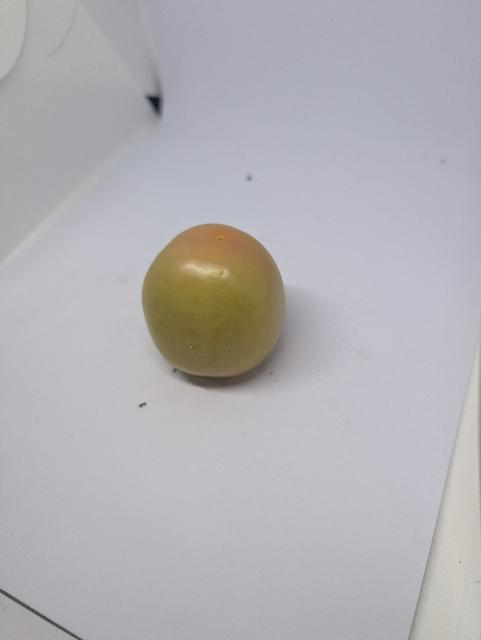breaker: (142, 224, 286, 377)
